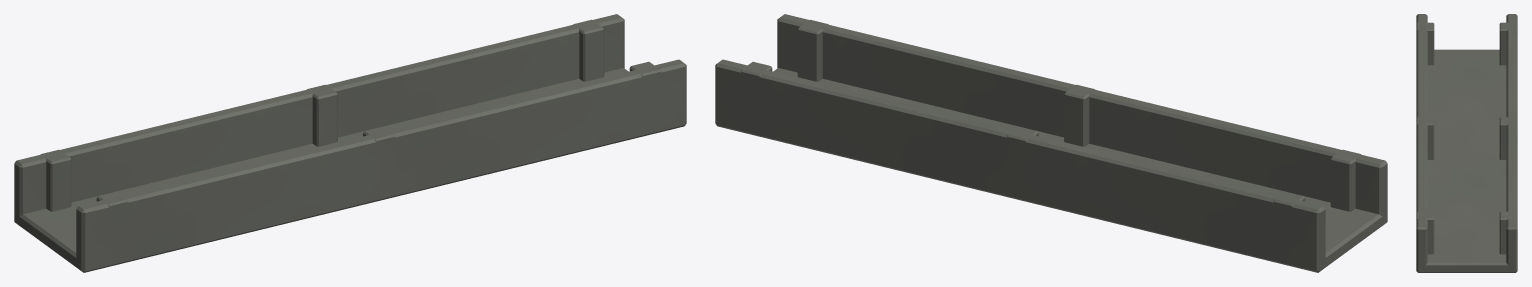
File: WarrensC_CCS29_FloorChainGuide_Mars_SM.fbx
3 views of the same model, side by side, from view 1: azimuth 30°, elevation 25°; view 2: azimuth 150°, elevation 25°; view 3: azimuth 270°, elevation 25° (orthographic). The views are drawn at different scales.
Parts seen in each view (by area): view 1: WarrensC_CCS29_FloorChainGuide_Mars_SM.001; view 2: WarrensC_CCS29_FloorChainGuide_Mars_SM.001; view 3: WarrensC_CCS29_FloorChainGuide_Mars_SM.001.
Part boxes in pixels (x1=…): WarrensC_CCS29_FloorChainGuide_Mars_SM.001: x1=14, y1=14, x2=686, y2=272; WarrensC_CCS29_FloorChainGuide_Mars_SM.001: x1=715, y1=14, x2=1387, y2=272; WarrensC_CCS29_FloorChainGuide_Mars_SM.001: x1=1416, y1=14, x2=1517, y2=272.
Size of the model in its own units: 200 by 40 by 20.
